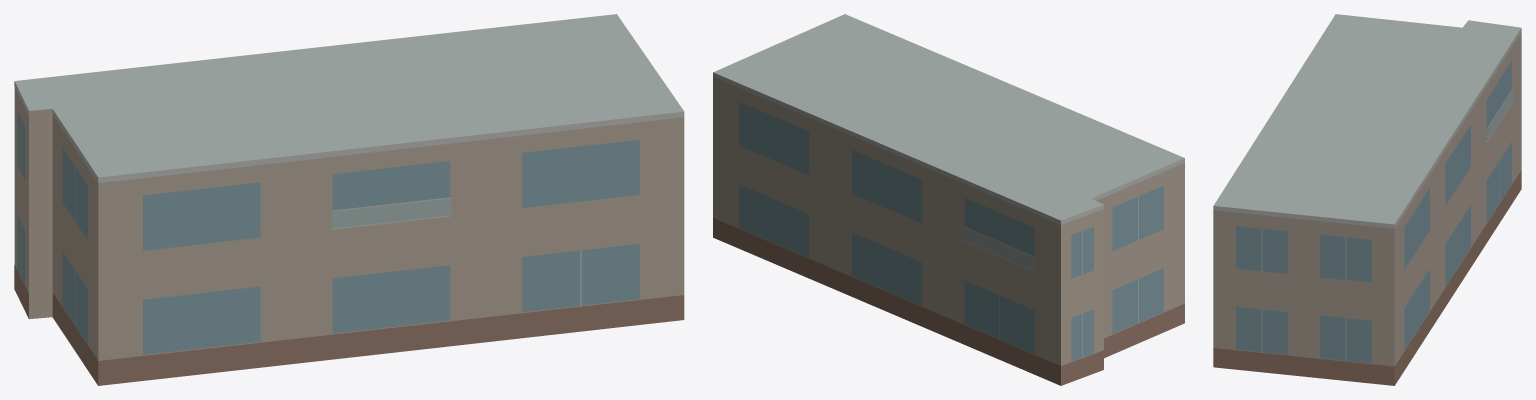
The model's file is survey-upis-33005191.glb.
The picture shows the model from 3 angles, left to right: view 1: azimuth 30°, elevation 25°; view 2: azimuth 150°, elevation 25°; view 3: azimuth 270°, elevation 25°; orthographic projection. The views are drawn at different scales.
Visible parts, largest first — view 1: survey-upis-33005191.tmp; view 2: survey-upis-33005191.tmp; view 3: survey-upis-33005191.tmp.
Boxes of the visible parts, x1,y1,x2,y2 form: survey-upis-33005191.tmp: (14, 14, 684, 385); survey-upis-33005191.tmp: (713, 14, 1184, 385); survey-upis-33005191.tmp: (1213, 14, 1521, 385).
Size of the model in its own units: 25.18 by 9 by 15.58.
